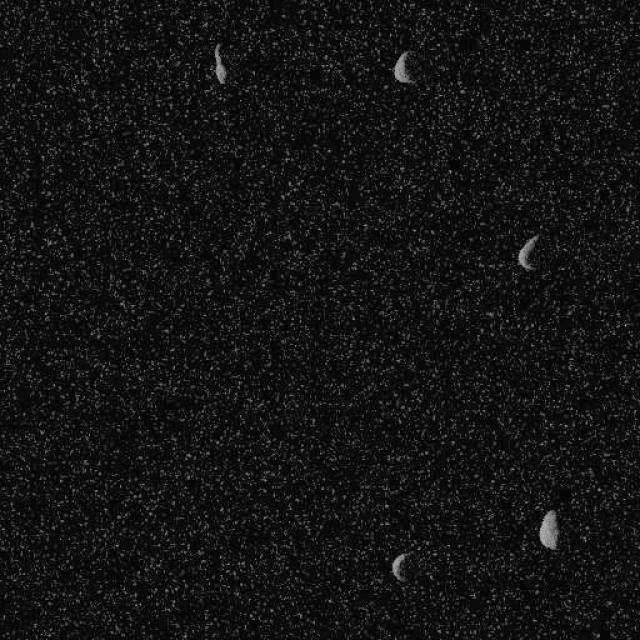D2: (392, 48, 416, 84), (516, 234, 539, 271), (538, 509, 558, 550), (390, 551, 411, 584), (212, 41, 228, 84)
